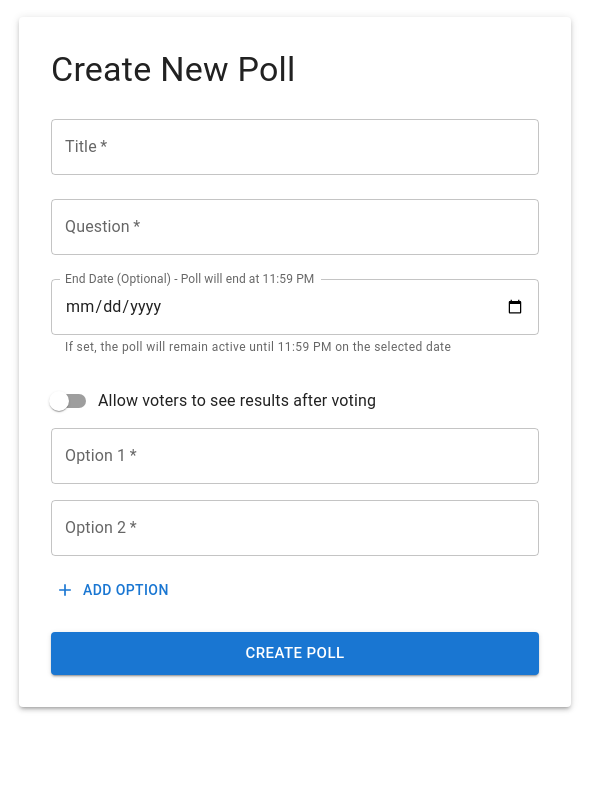
Test case: CreatePoll Component › handles API error gracefully
// Fill minimum required fields
Type "Test Poll" into the field labelled "Title *" at (295, 147), box x1=51 y1=119 x2=539 y2=175
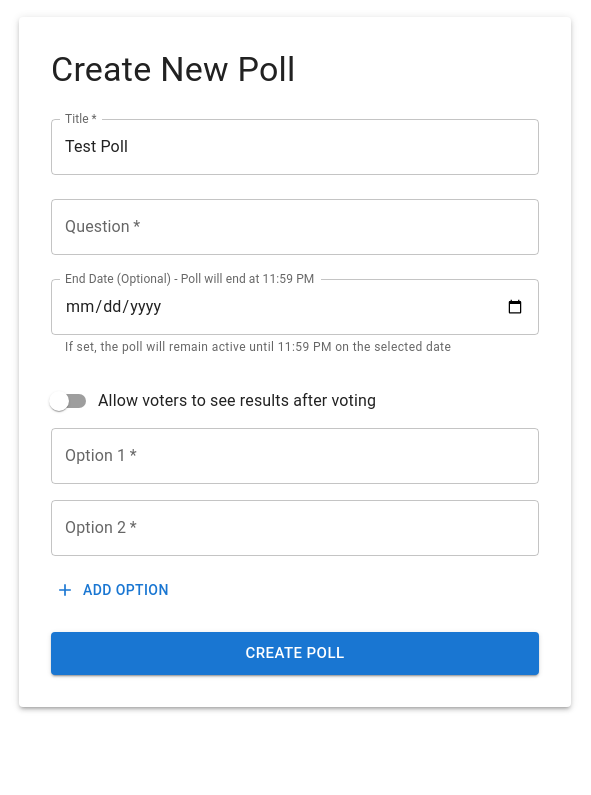
Type "Test Question?" into the field labelled "Question *" at (295, 227), box x1=51 y1=199 x2=539 y2=255
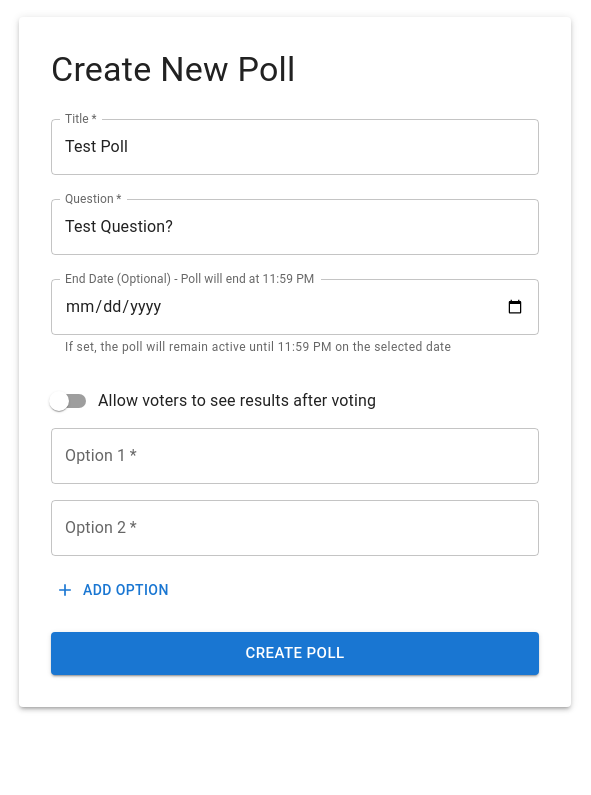
// Add options
Type "Option 1" into the field labelled "Option 1 *" at (295, 456), box x1=51 y1=428 x2=539 y2=484
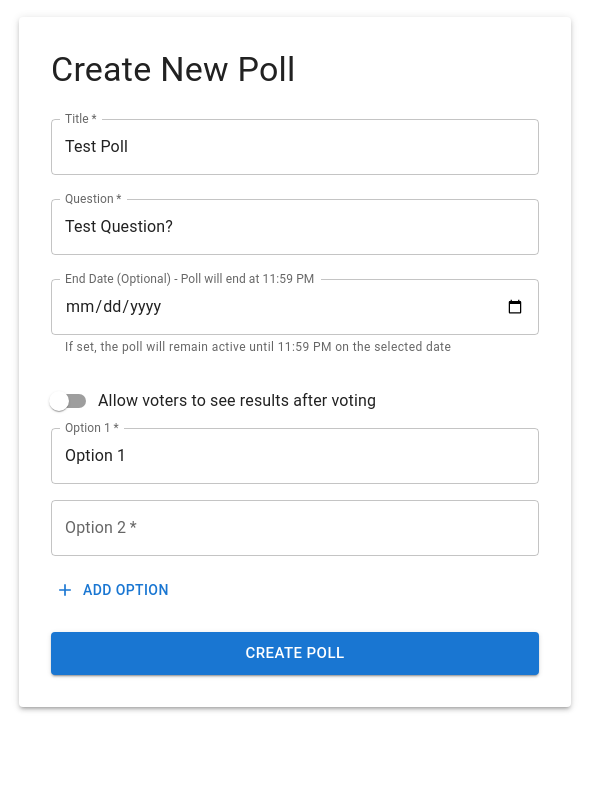
Type "Option 2" into the field labelled "Option 2 *" at (295, 528), box x1=51 y1=500 x2=539 y2=556
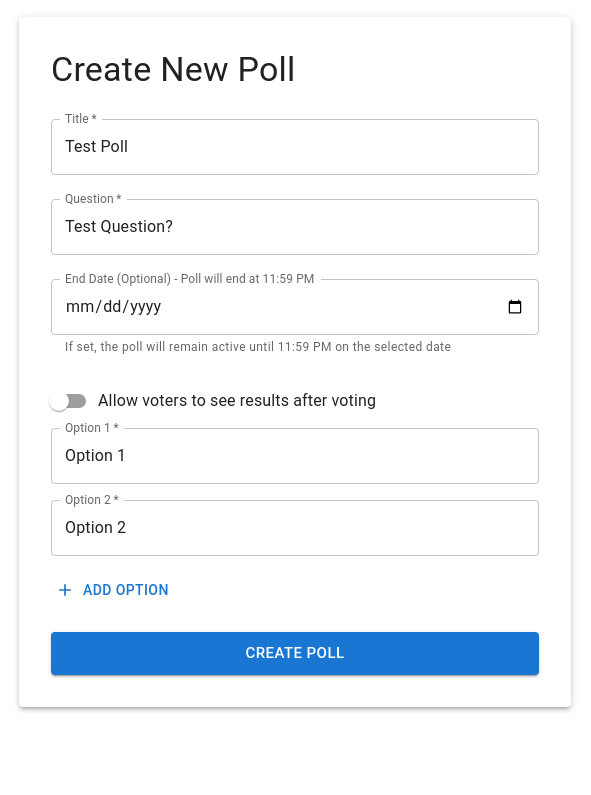
// Submit form
Click the button "Create Poll" at (295, 653), box x1=51 y1=632 x2=539 y2=675
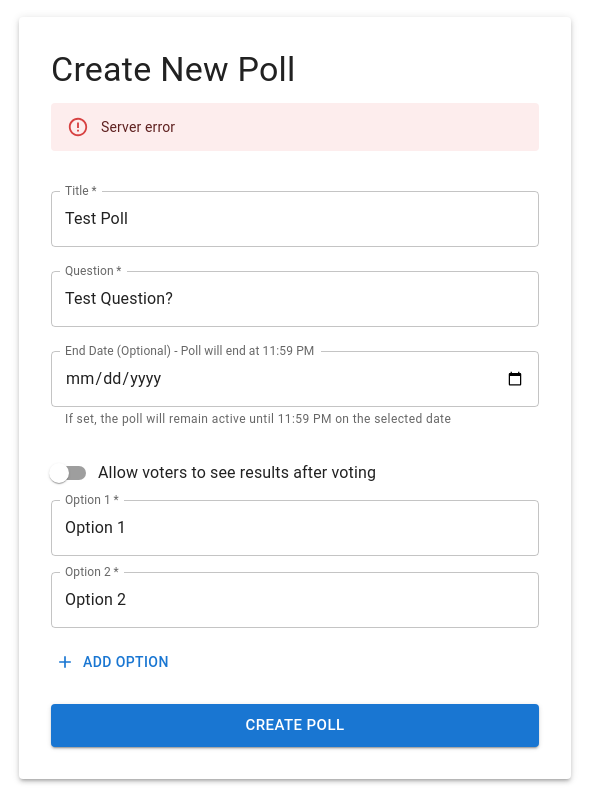
expect the text "Server error" is shown: met, box x1=101 y1=119 x2=175 y2=135
